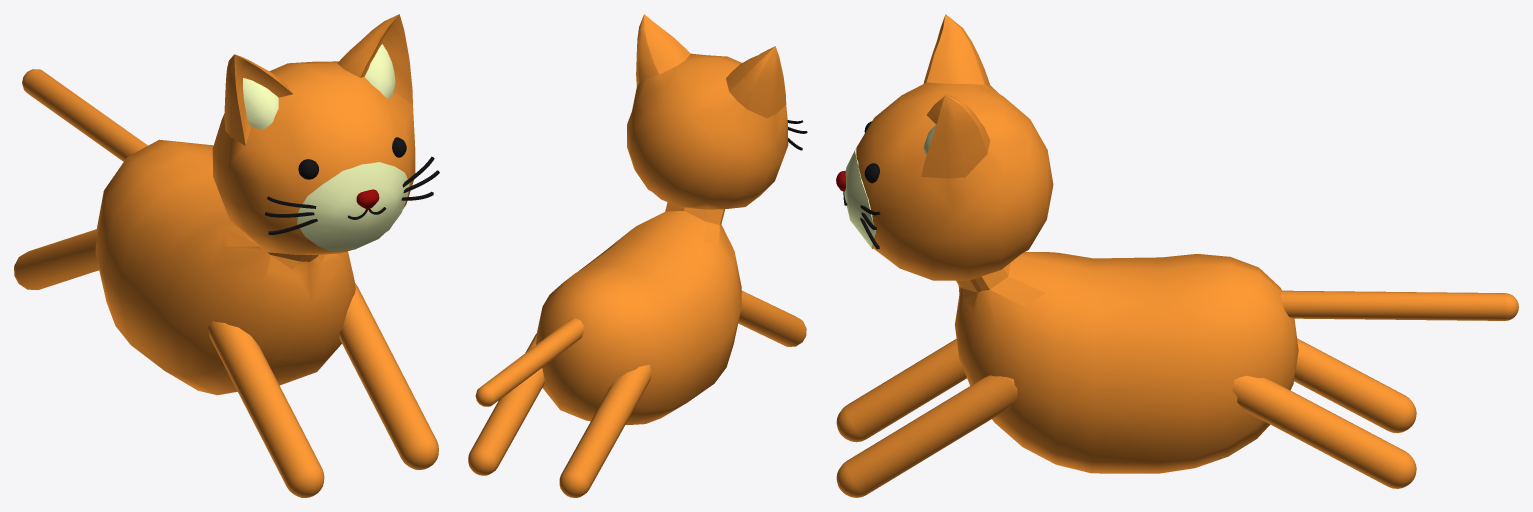
The model's file is cat_jump.FBX.
3 views of the same model, side by side, from view 1: azimuth 30°, elevation 25°; view 2: azimuth 150°, elevation 25°; view 3: azimuth 270°, elevation 25° (orthographic). The views are drawn at different scales.
Visible parts, largest first — view 1: Capsule001, Sphere024, Capsule005, Capsule004, Group003, Capsule003, Capsule006, Sphere031, Sphere029; view 2: Capsule001, Sphere024, Capsule006, Capsule007, Capsule003, Capsule005; view 3: Capsule001, Sphere024, Capsule004, Capsule007, Capsule003, Capsule005, Capsule006, Group003.
Boxes of the visible parts, x1,y1,x2,y2 form: Capsule001: [95, 139, 355, 395]; Sphere024: [212, 14, 415, 254]; Capsule005: [207, 321, 324, 497]; Capsule004: [339, 283, 438, 469]; Group003: [297, 162, 409, 250]; Capsule003: [22, 69, 147, 161]; Capsule006: [14, 229, 98, 289]; Sphere031: [243, 78, 278, 129]; Sphere029: [364, 44, 395, 98]; Capsule001: [536, 202, 741, 424]; Sphere024: [627, 14, 788, 209]; Capsule006: [559, 364, 651, 497]; Capsule007: [468, 333, 544, 475]; Capsule003: [475, 318, 583, 406]; Capsule005: [738, 290, 806, 346]; Capsule001: [955, 252, 1298, 473]; Sphere024: [856, 14, 1053, 280]; Capsule004: [836, 375, 1017, 497]; Capsule007: [1232, 375, 1416, 488]; Capsule003: [1280, 290, 1518, 320]; Capsule005: [836, 339, 966, 442]; Capsule006: [1294, 338, 1416, 433]; Group003: [844, 145, 875, 249].
Bounding box in the file's own units: 4.5 × 9.84 × 14.72.
